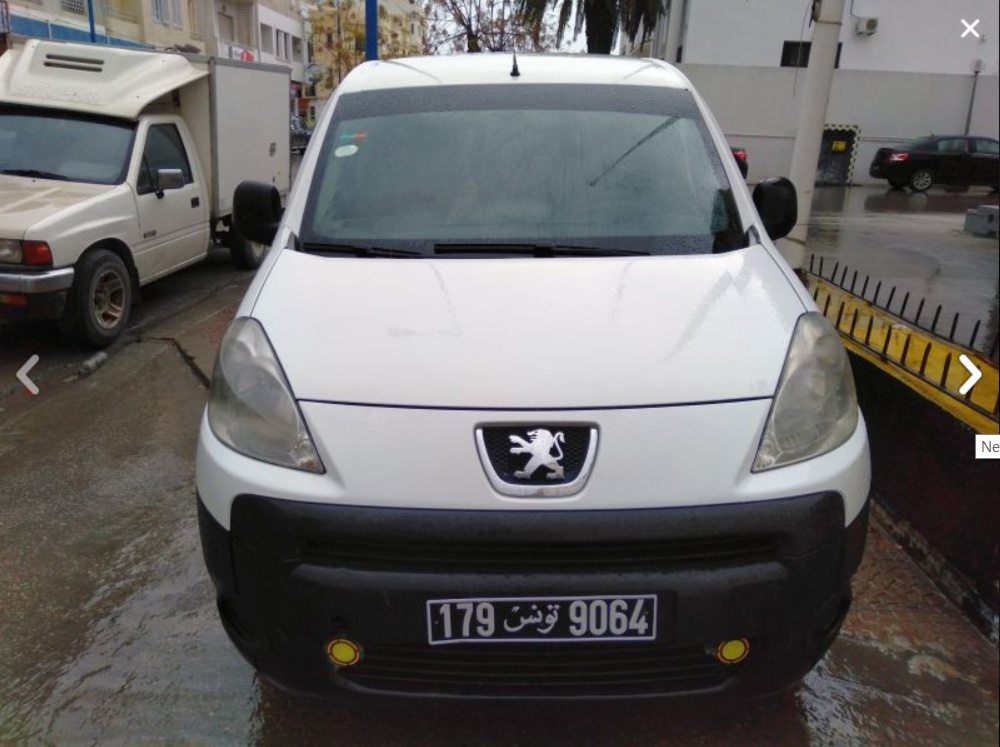LP: (415, 591, 672, 649)
